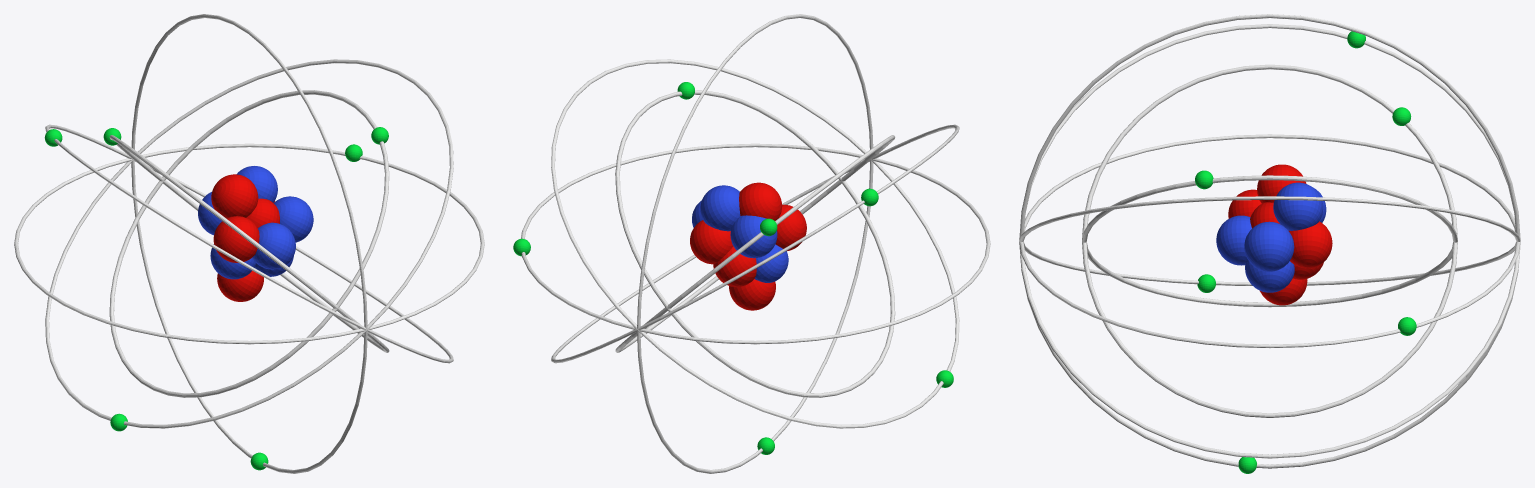
File: carbonAtom.gltf
3 views of the same model, side by side, from view 1: azimuth 30°, elevation 25°; view 2: azimuth 150°, elevation 25°; view 3: azimuth 270°, elevation 25° (orthographic). The views are drawn at different scales.
Visible parts, largest first — view 1: outer_shell.001, outer_shell.003, inner_shell, outer_shell.002, outer_shell, inner_shell.001, proton.004, proton.002, neutron, neutron.003, proton.005, neutron.004 (+3 smaller); view 2: outer_shell.001, outer_shell.003, inner_shell, outer_shell.002, outer_shell, inner_shell.001, neutron.004, proton.004, proton.003, neutron.002, proton.005, proton (+2 smaller); view 3: outer_shell.003, outer_shell, inner_shell.001, outer_shell.002, inner_shell, outer_shell.001, neutron.003, neutron.004, proton.003, neutron, neutron.005, proton.004 (+2 smaller).
Part boxes in pixels (x1,y1,x2,y2): outer_shell.001: [45, 59, 453, 428]; outer_shell.003: [131, 14, 367, 473]; inner_shell: [109, 90, 389, 397]; outer_shell.002: [14, 143, 484, 344]; outer_shell: [45, 124, 453, 363]; inner_shell.001: [109, 135, 389, 352]; proton.004: [211, 174, 258, 218]; proton.002: [213, 216, 259, 262]; neutron: [252, 222, 295, 269]; neutron.003: [273, 196, 313, 242]; proton.005: [217, 270, 263, 301]; neutron.004: [236, 166, 277, 202]; outer_shell.001: [551, 59, 959, 428]; outer_shell.003: [637, 14, 873, 473]; inner_shell: [615, 90, 895, 397]; outer_shell.002: [521, 143, 990, 344]; outer_shell: [551, 124, 959, 363]; inner_shell.001: [615, 135, 895, 352]; neutron.004: [700, 185, 740, 231]; proton.004: [739, 182, 782, 220]; proton.003: [690, 220, 733, 264]; neutron.002: [730, 215, 777, 258]; proton.005: [729, 279, 775, 310]; proton: [713, 246, 756, 287]; outer_shell.003: [1019, 14, 1520, 468]; outer_shell: [1019, 24, 1520, 458]; inner_shell.001: [1082, 64, 1457, 417]; outer_shell.002: [1019, 134, 1520, 348]; inner_shell: [1082, 175, 1457, 307]; outer_shell.001: [1019, 196, 1520, 285]; neutron.003: [1244, 221, 1294, 271]; neutron.004: [1273, 182, 1323, 230]; proton.003: [1289, 221, 1332, 268]; neutron: [1216, 215, 1251, 265]; neutron.005: [1245, 261, 1294, 292]; proton.004: [1257, 164, 1306, 203].
Size of the model in its own units: 20 by 20.21 by 20.
